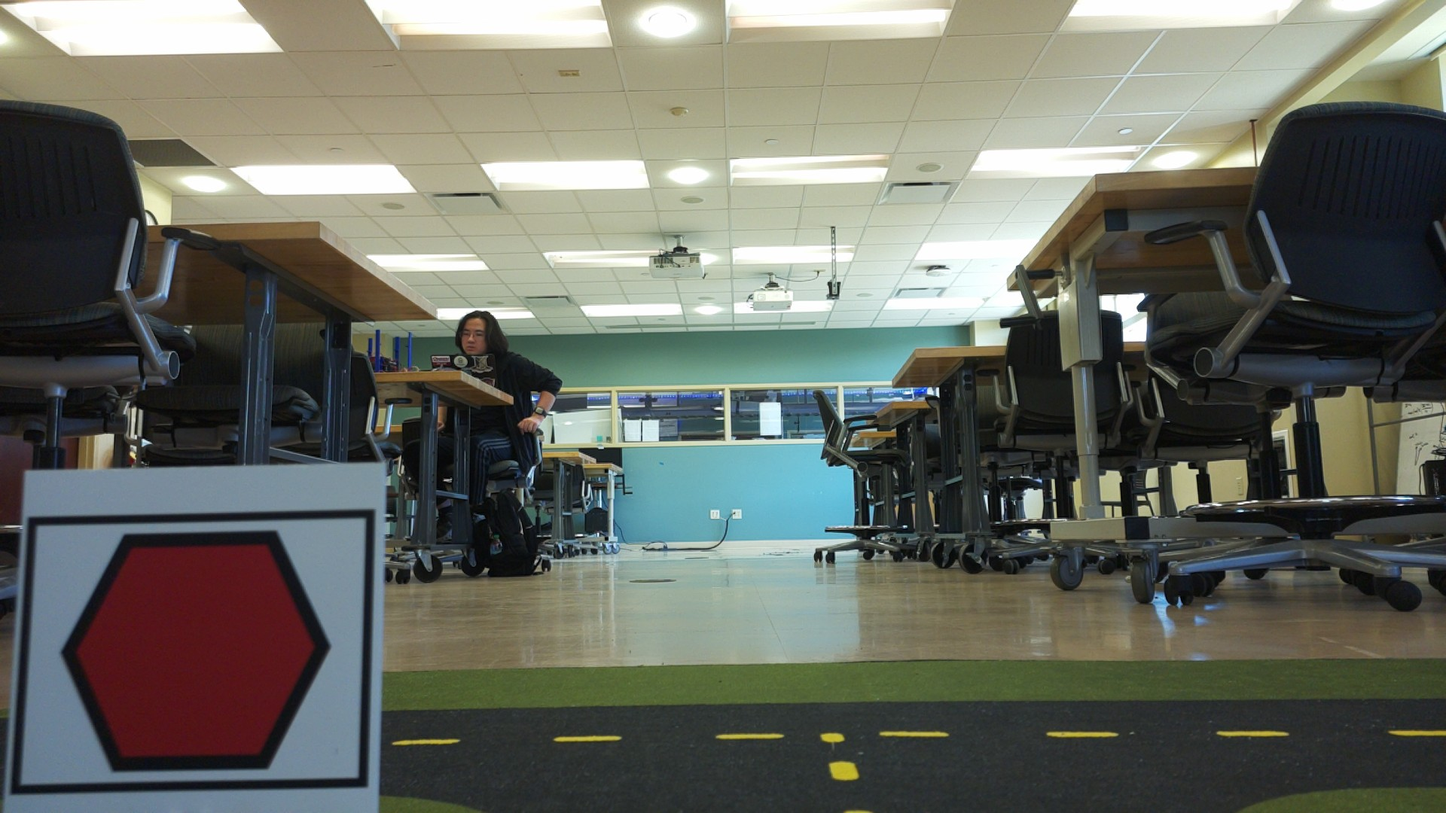stop: (32, 518, 374, 788)
yellowline: (398, 722, 1446, 745), (816, 731, 867, 786)
